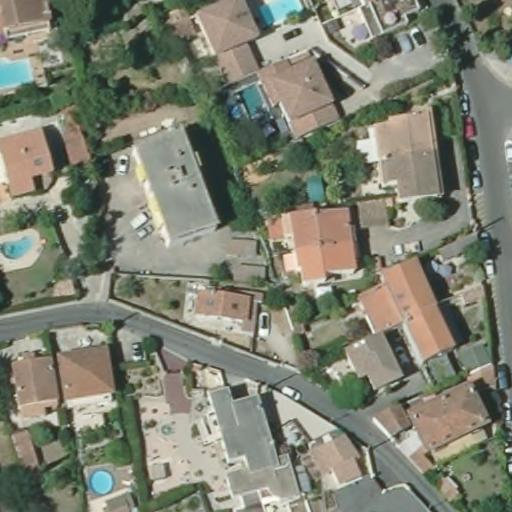pool: (230, 81, 271, 121), (254, 0, 306, 27), (0, 53, 34, 94), (0, 235, 34, 263), (88, 467, 115, 494)
